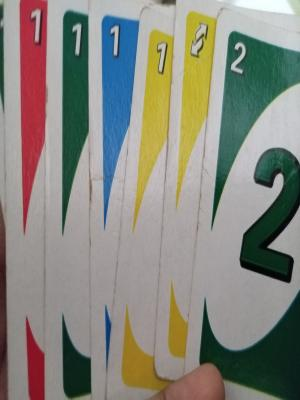blue: (97, 12, 130, 144)
green: (53, 11, 88, 178), (224, 26, 251, 130)
red: (14, 5, 48, 144)
yellow: (145, 19, 172, 161), (183, 11, 211, 114)
